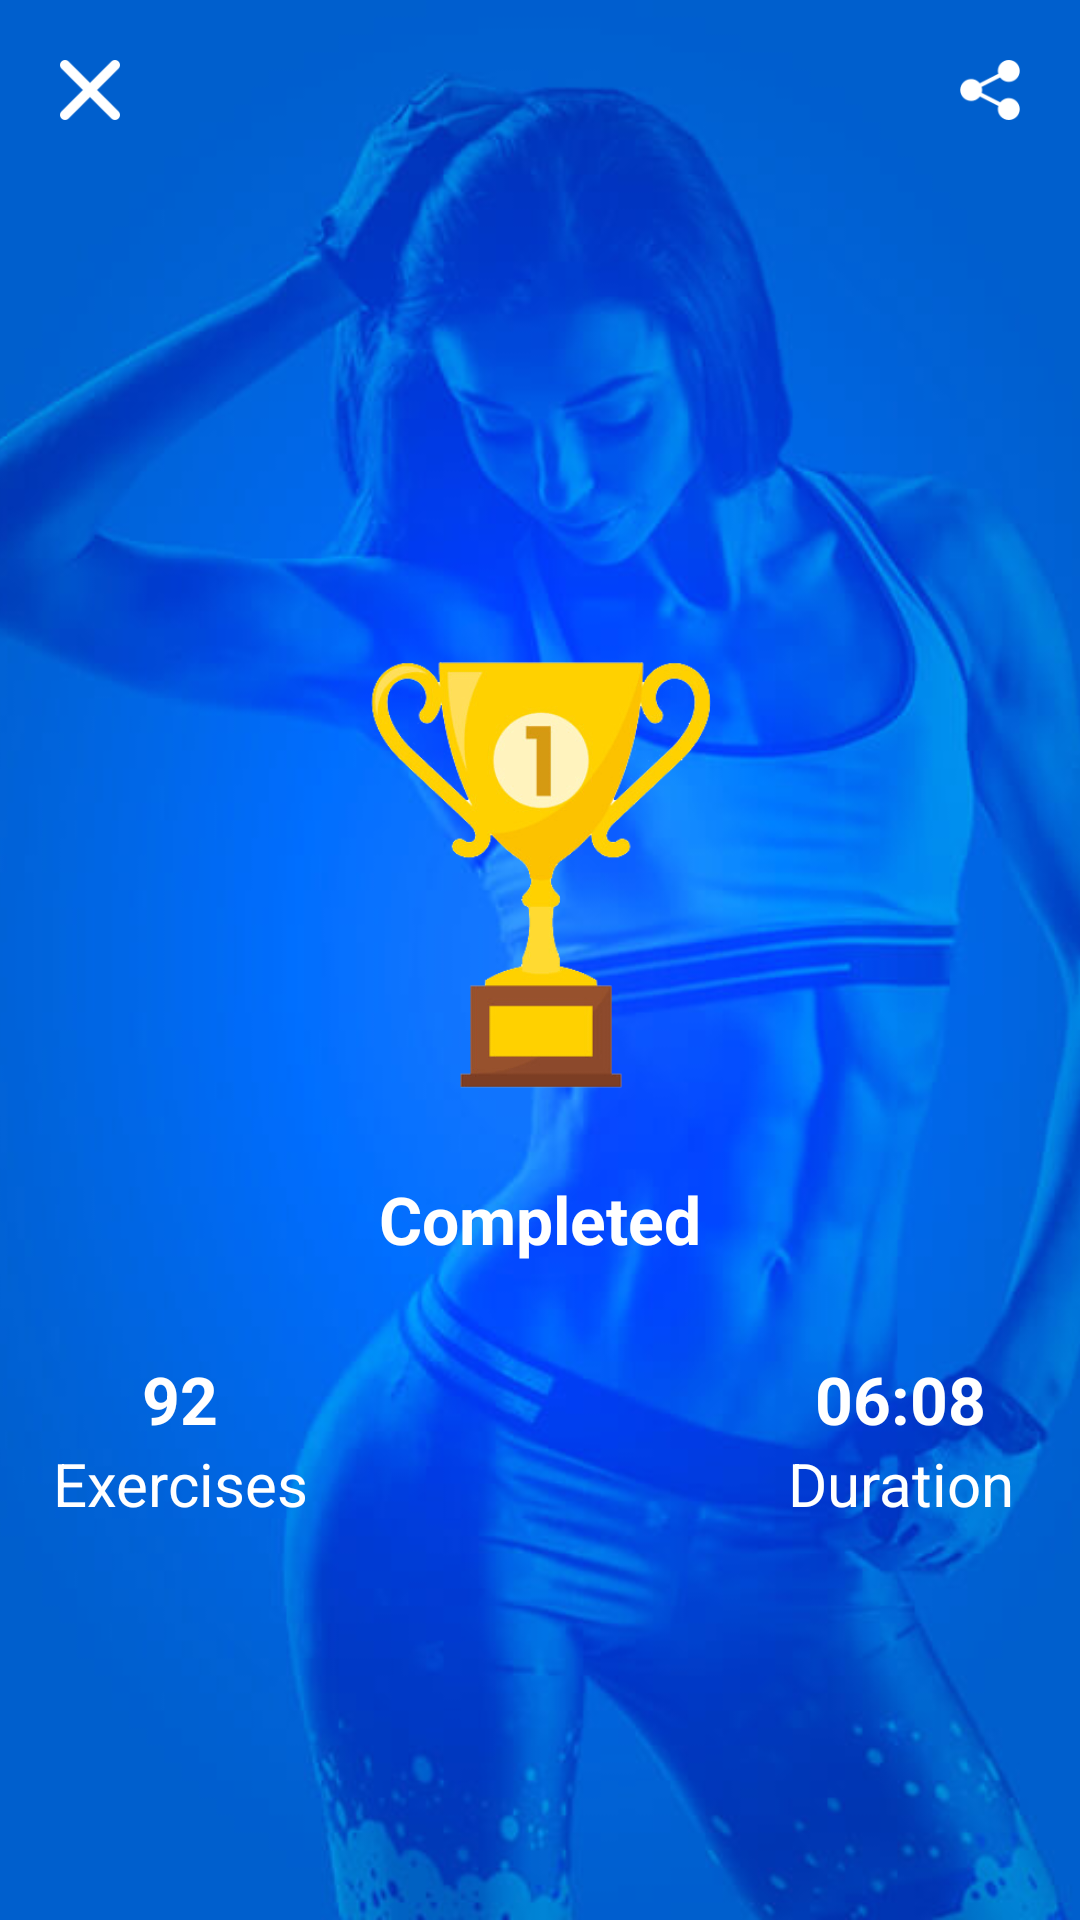

Icon click points for this 1080 × 1920 phone screenshot, format [x,y]:
cancel: [90,90]
share: [990,90]
